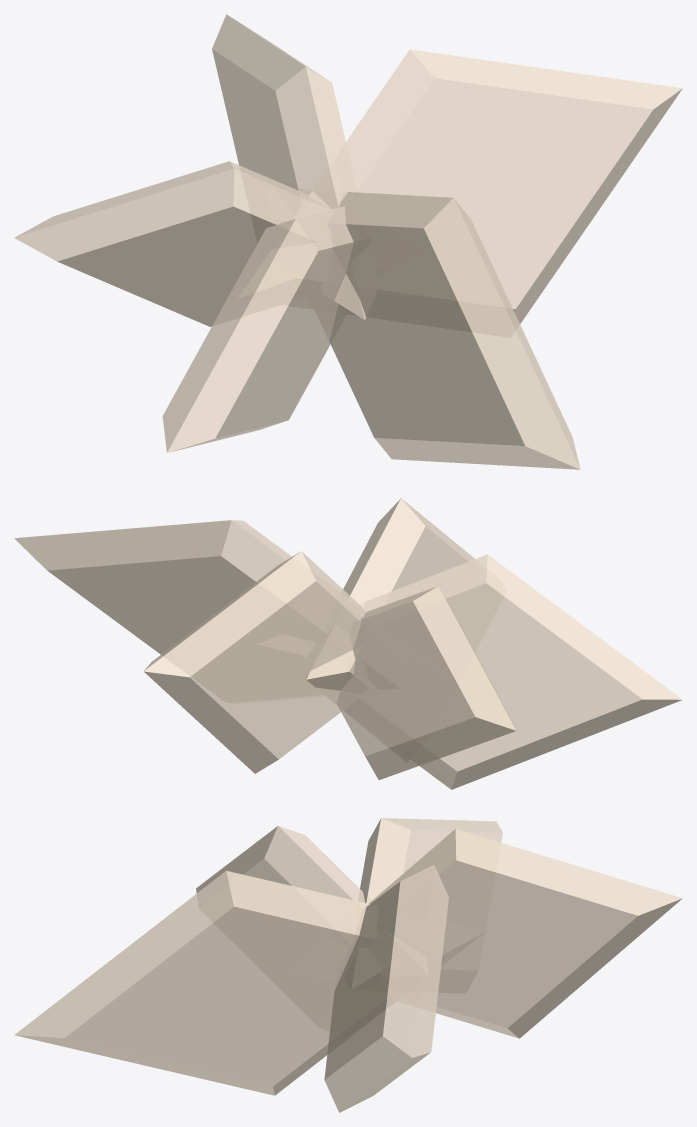
File: s2_crystal_uricacid.glb
The picture shows the model from 3 angles, top to bottom: view 1: azimuth 30°, elevation 25°; view 2: azimuth 150°, elevation 25°; view 3: azimuth 270°, elevation 25°; orthographic projection. The views are drawn at different scales.
Parts seen in each view (by area): view 1: crystal_uricacid; view 2: crystal_uricacid; view 3: crystal_uricacid.
Boxes of the visible parts, x1,y1,x2,y2 form: crystal_uricacid: (14, 14, 682, 469); crystal_uricacid: (14, 498, 682, 789); crystal_uricacid: (14, 818, 682, 1112).
Bounding box in the file's own units: 0.0513 × 0.0243 × 0.0531.
